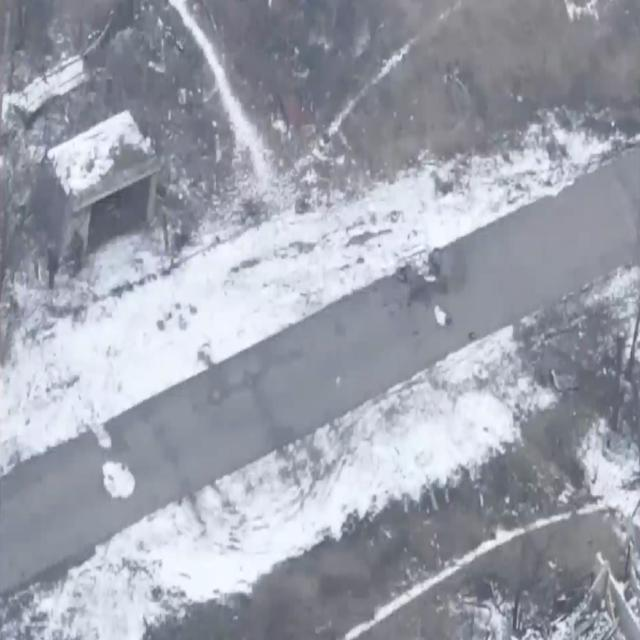infantry: (70, 224, 86, 270), (46, 246, 60, 286)
